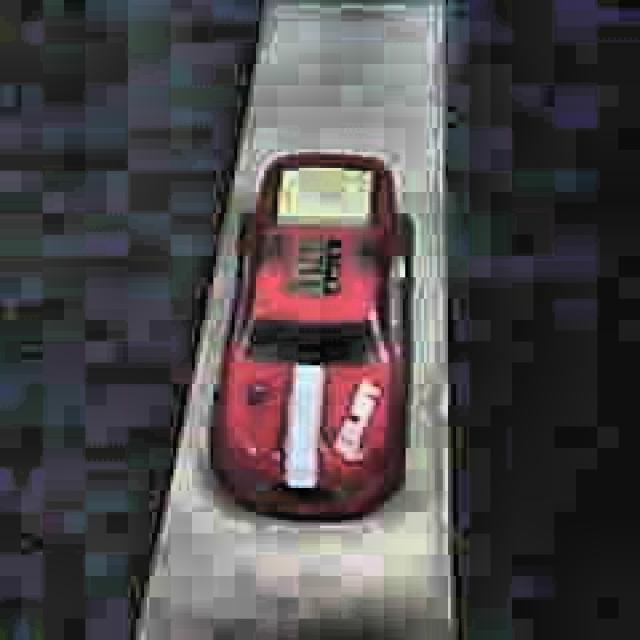car: (208, 147, 416, 528)
